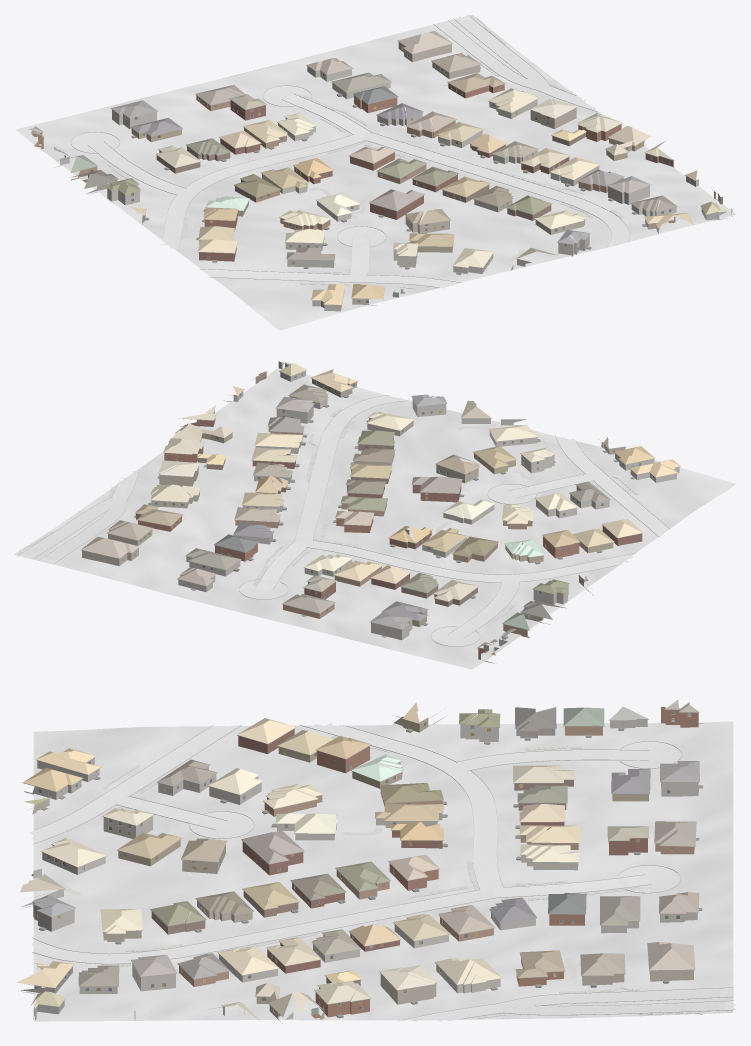
3 views of the same model, one above another, from view 1: azimuth 30°, elevation 25°; view 2: azimuth 150°, elevation 25°; view 3: azimuth 270°, elevation 25° (orthographic). The views are drawn at different scales.
Parts seen in each view (by area): view 1: ground, roof, concrete, wall, wall_stone, detail, curb, asphalt, wall_stucco, walk, glass; view 2: ground, roof, concrete, wall, wall_stone, detail, asphalt, wall_stucco, curb, walk, glass; view 3: ground, roof, concrete, wall, wall_stone, detail, curb, asphalt, wall_stucco, walk, glass.
Boxes of the visible parts, bbox=[...] form: ground: bbox=[15, 14, 736, 330]; roof: bbox=[29, 31, 733, 304]; concrete: bbox=[71, 86, 629, 288]; wall: bbox=[38, 62, 722, 261]; wall_stone: bbox=[54, 82, 698, 311]; detail: bbox=[39, 41, 728, 305]; curb: bbox=[71, 15, 629, 287]; asphalt: bbox=[434, 14, 595, 110]; wall_stucco: bbox=[262, 42, 732, 273]; walk: bbox=[108, 18, 624, 285]; glass: bbox=[83, 48, 703, 302]; ground: bbox=[14, 368, 736, 669]; roof: bbox=[81, 363, 680, 647]; concrete: bbox=[239, 395, 667, 646]; wall: bbox=[108, 371, 642, 663]; wall_stone: bbox=[186, 391, 679, 646]; detail: bbox=[81, 363, 680, 654]; asphalt: bbox=[17, 470, 138, 564]; wall_stucco: bbox=[82, 361, 554, 592]; curb: bbox=[18, 395, 669, 646]; walk: bbox=[19, 408, 637, 621]; glass: bbox=[122, 375, 653, 614]; ground: bbox=[33, 721, 733, 1021]; roof: bbox=[17, 700, 699, 1020]; concrete: bbox=[29, 722, 681, 963]; wall: bbox=[21, 707, 698, 1023]; wall_stone: bbox=[21, 718, 698, 1019]; detail: bbox=[23, 708, 702, 1018]; curb: bbox=[32, 724, 734, 1020]; asphalt: bbox=[406, 988, 735, 1021]; wall_stucco: bbox=[33, 813, 697, 1020]; walk: bbox=[56, 735, 719, 1019]; glass: bbox=[34, 710, 691, 1009].
Bounding box in the file's own units: 268 × 14.1 × 258.
